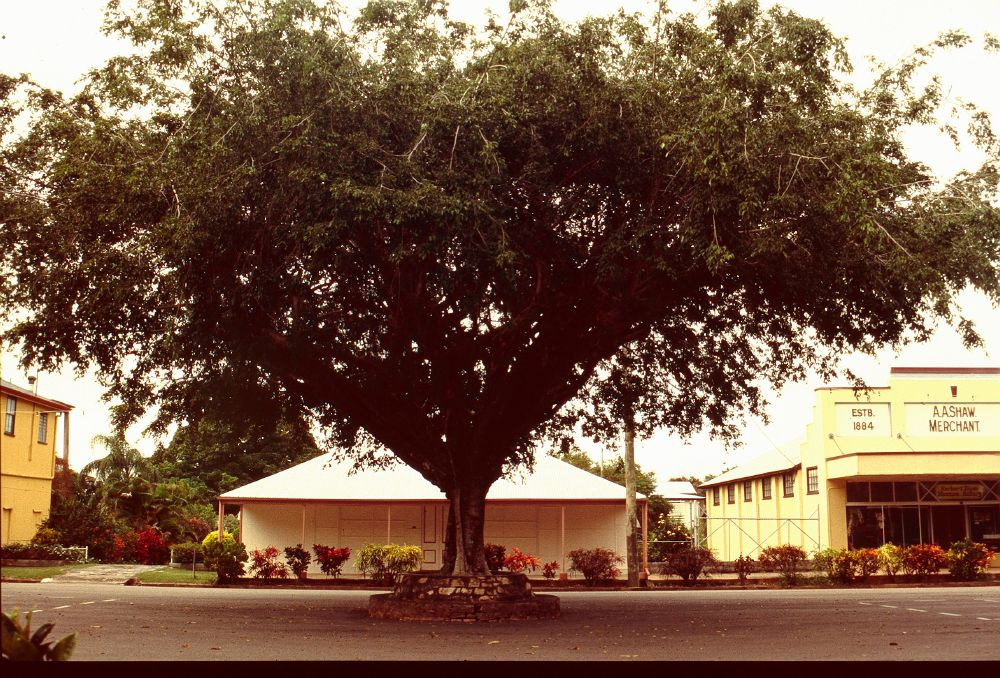tree: (23, 4, 999, 619)
